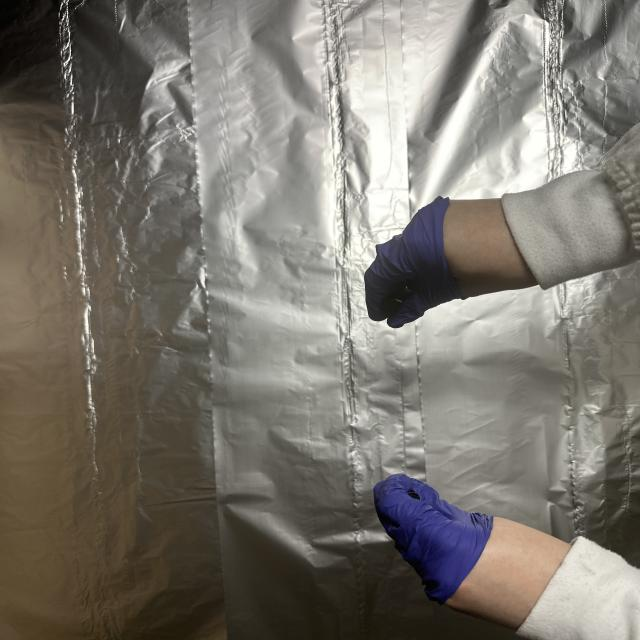glove_partial: (374, 470, 576, 630), (367, 195, 539, 329)
